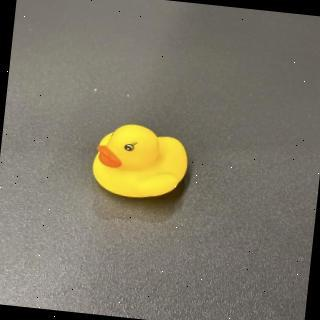duck_regular: (90, 119, 192, 204)
